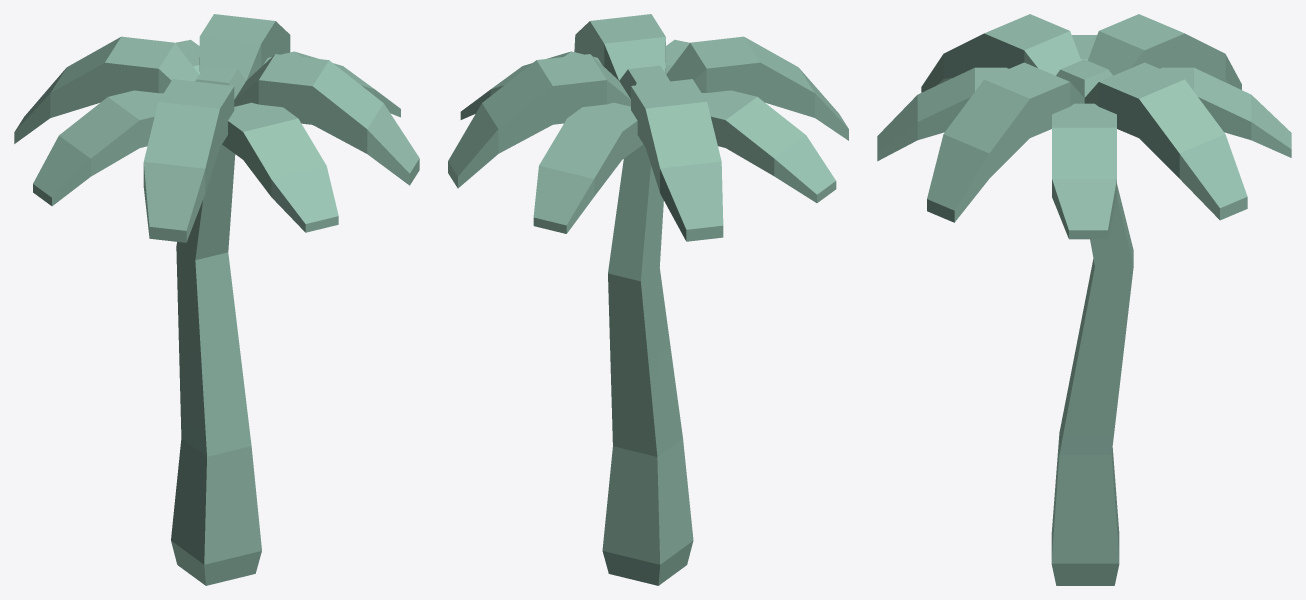
Rendered from naturePack_169.fbx.
3 views of the same model, side by side, from view 1: azimuth 30°, elevation 25°; view 2: azimuth 150°, elevation 25°; view 3: azimuth 270°, elevation 25° (orthographic).
Parts seen in each view (by area): view 1: naturePack_169; view 2: naturePack_169; view 3: naturePack_169.
Part boxes in pixels (x1=…): naturePack_169: x1=14, y1=14, x2=419, y2=585; naturePack_169: x1=448, y1=14, x2=848, y2=585; naturePack_169: x1=877, y1=14, x2=1291, y2=585.
Bounding box in the file's own units: 309 × 425 × 309.
